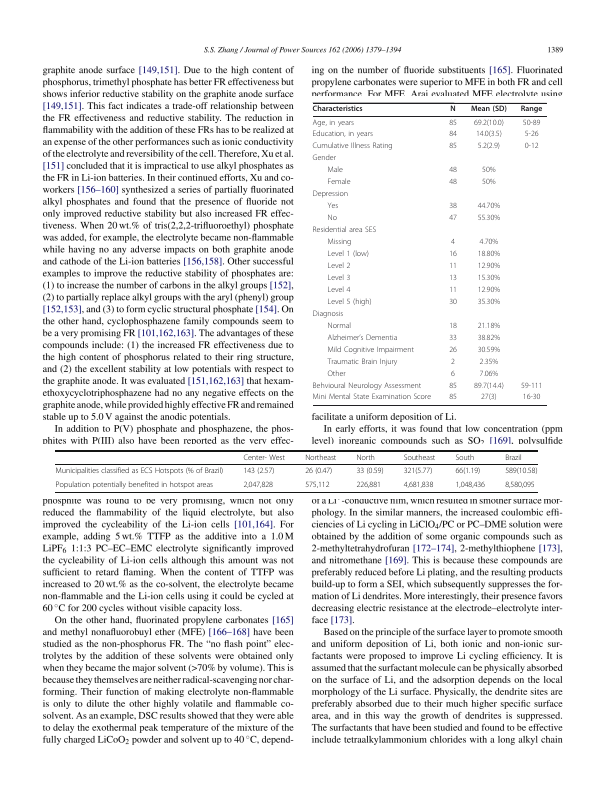borderless: (312, 101, 547, 405), (55, 449, 538, 492)
cell: (55, 466, 224, 476), (55, 480, 214, 490), (312, 393, 432, 403), (312, 381, 422, 391), (326, 345, 415, 355), (312, 142, 394, 152), (326, 333, 398, 343), (326, 357, 398, 367), (312, 130, 374, 140), (312, 226, 377, 235), (312, 105, 363, 114), (312, 118, 355, 128), (326, 298, 373, 307), (242, 453, 286, 462), (326, 250, 370, 259), (470, 105, 508, 114), (504, 466, 538, 476), (312, 190, 349, 199), (242, 466, 275, 476), (242, 480, 274, 490), (454, 480, 486, 490), (504, 480, 536, 490), (473, 118, 505, 128), (473, 381, 505, 391), (403, 480, 434, 490), (403, 466, 433, 476), (304, 453, 337, 462), (403, 453, 436, 462), (304, 466, 333, 476), (355, 466, 384, 476), (312, 310, 344, 319), (475, 130, 503, 140), (454, 466, 481, 476), (355, 480, 382, 490), (304, 480, 330, 490), (326, 321, 352, 331), (312, 154, 337, 164), (477, 142, 501, 152), (477, 321, 501, 331), (477, 333, 501, 343), (477, 345, 501, 355), (326, 238, 352, 247), (520, 381, 543, 391), (326, 178, 351, 187), (326, 262, 351, 271), (326, 274, 351, 283), (326, 286, 351, 295), (477, 202, 501, 211), (477, 214, 501, 223), (477, 250, 501, 259), (477, 262, 501, 271), (477, 274, 501, 283), (477, 286, 501, 295), (477, 298, 501, 307), (478, 357, 499, 367), (326, 369, 347, 379), (478, 369, 499, 379), (520, 105, 543, 114), (522, 118, 541, 128), (522, 393, 541, 403), (355, 453, 376, 462), (454, 453, 475, 462), (478, 238, 499, 247), (326, 166, 344, 176), (480, 393, 498, 403), (504, 453, 523, 462), (524, 130, 539, 140), (524, 142, 539, 152), (481, 166, 496, 176), (481, 178, 496, 187), (326, 202, 339, 211), (326, 214, 338, 223), (448, 118, 458, 128), (448, 130, 458, 140), (448, 142, 458, 152), (448, 166, 458, 176), (448, 321, 458, 331), (448, 333, 458, 343), (448, 345, 458, 355), (448, 381, 458, 391), (448, 393, 458, 403), (448, 178, 458, 187), (448, 202, 458, 211), (448, 214, 458, 223), (448, 250, 458, 259), (448, 262, 458, 271), (448, 274, 458, 283), (448, 286, 458, 295), (448, 298, 458, 307), (449, 105, 457, 114), (450, 357, 456, 367), (450, 369, 456, 379), (450, 238, 456, 247)
